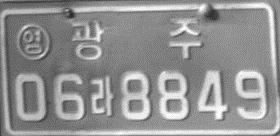0: (14, 71, 47, 121)
4: (197, 70, 228, 120)
6: (51, 72, 85, 122)
8: (156, 69, 189, 120), (118, 71, 151, 121)
9: (233, 69, 268, 120)
광주_D: (70, 18, 202, 60)
라: (89, 75, 114, 116)
영: (15, 22, 50, 60)
